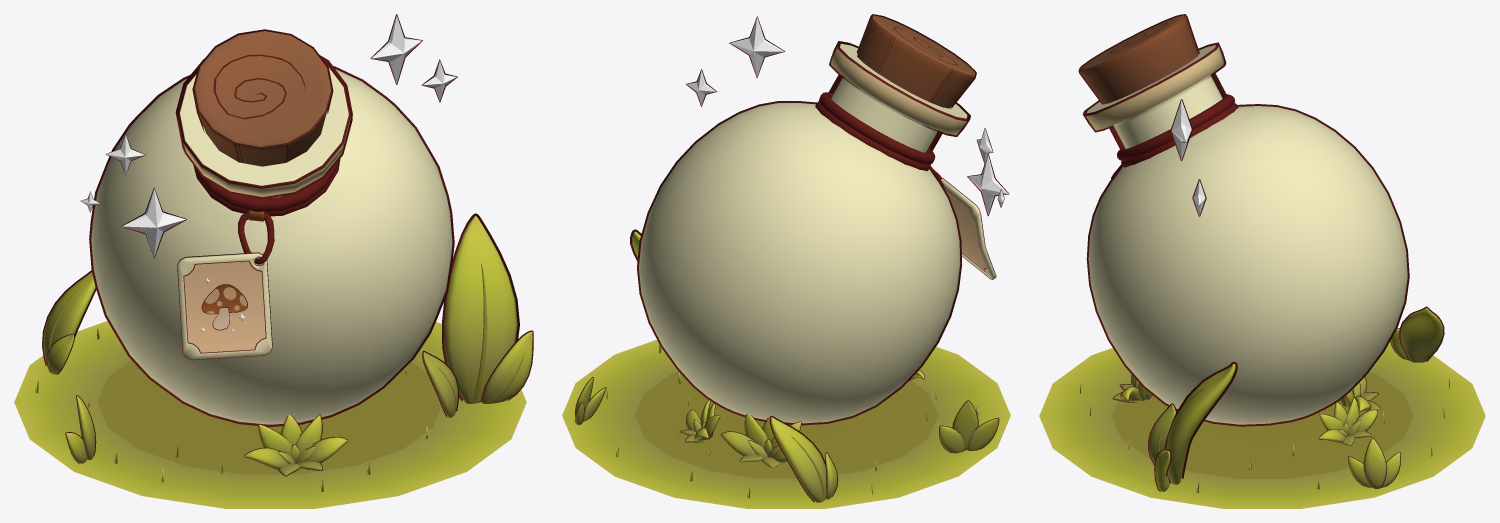
File: Mushroom_Potion2 1.fbx
3 renders of one model, left to right at view 1: azimuth 30°, elevation 25°; view 2: azimuth 150°, elevation 25°; view 3: azimuth 270°, elevation 25°, orthographic. The views are drawn at different scales.
Parts seen in each view (by area): view 1: Bottle, Base_2, Star; view 2: Bottle, Base_2, Star; view 3: Bottle, Base_2, Star.
Part boxes in pixels (x1,y1,x2,y2): Bottle: (89, 29, 454, 426); Base_2: (14, 213, 533, 508); Star: (80, 14, 457, 258); Bottle: (637, 14, 996, 425); Base_2: (562, 229, 1010, 508); Star: (686, 16, 1008, 215); Bottle: (1078, 14, 1409, 426); Base_2: (1039, 306, 1485, 508); Star: (1170, 99, 1206, 216).
Size of the model in its own units: 806 by 752 by 808.
